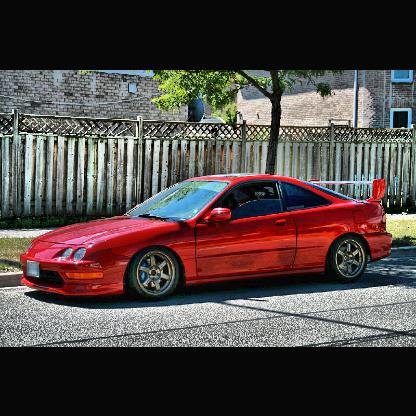Acura Integra Type R 2001: (21, 174, 396, 304)
